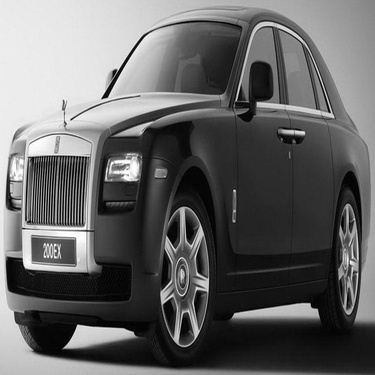car: (1, 13, 369, 351)
